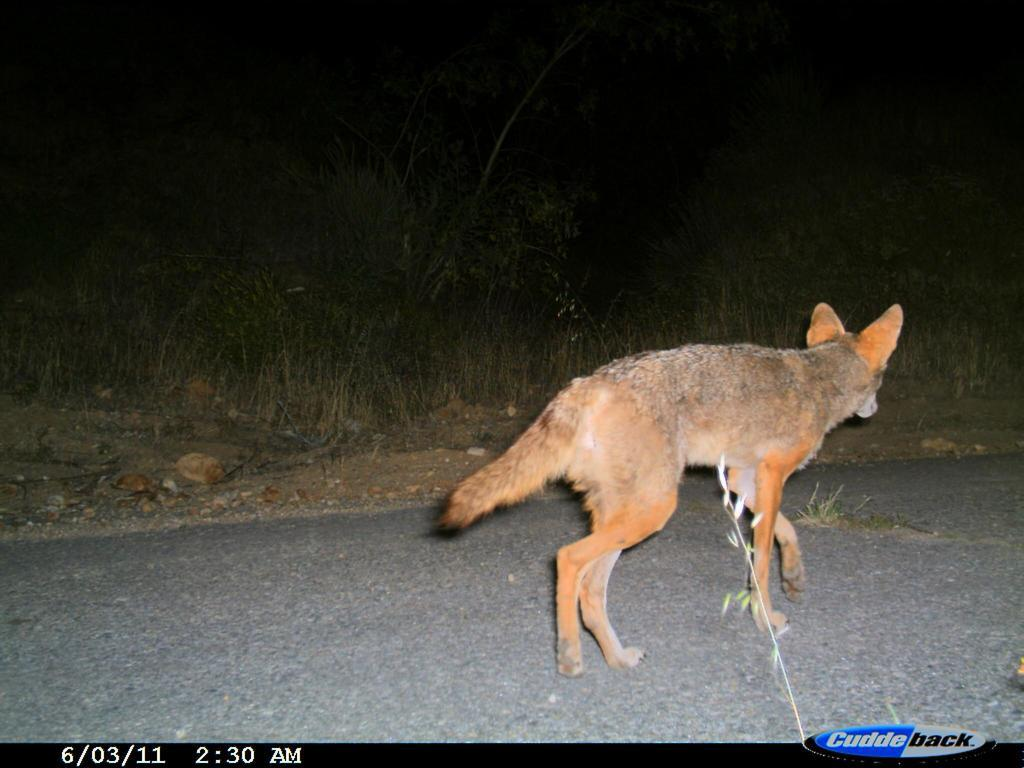coyote: (420, 290, 920, 678)
